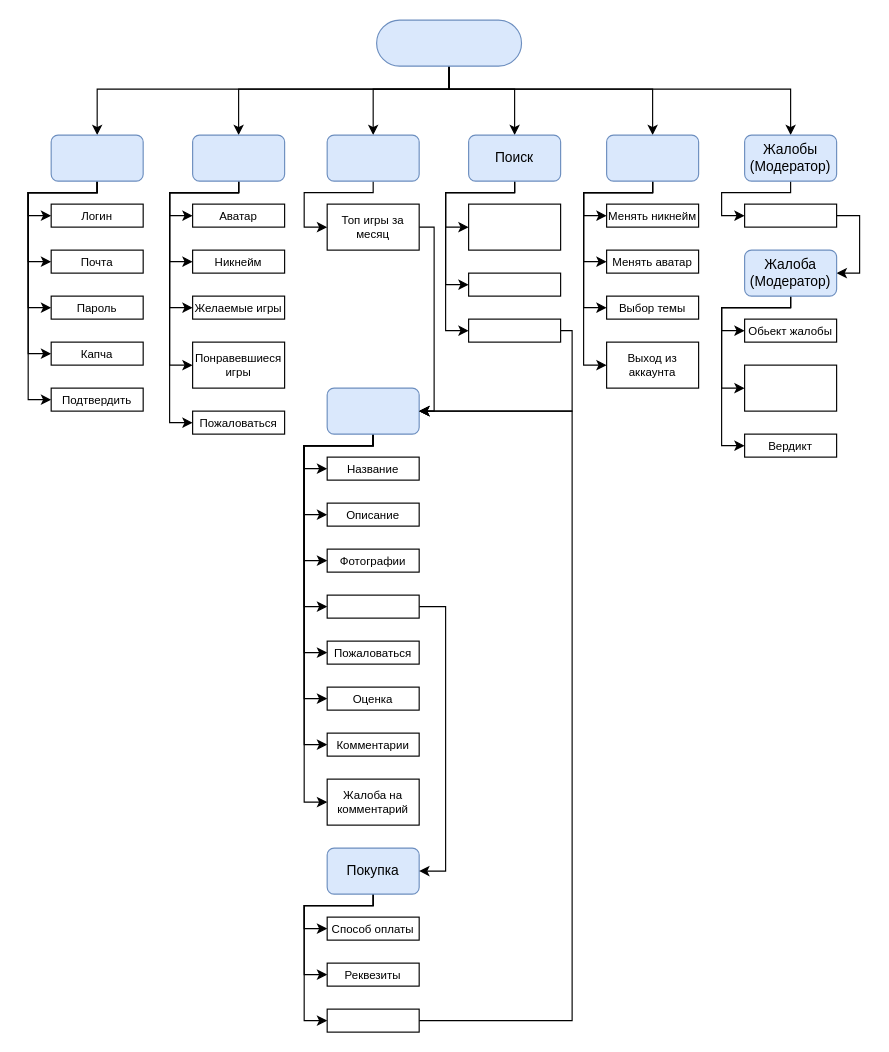
The diagram is 889 pixels wide and 1052 high, and some of its shapes have lost their labels. Each missing label, with the centre of its shape:
"Вход/Регестрация" goes at (x=96, y=157).
"Главная" goes at (x=448, y=42).
"игра из поиска" goes at (x=514, y=330).
"Настройки сайта" goes at (x=652, y=157).
"Описание жалобы" goes at (x=790, y=387).
"Оплатить" goes at (x=372, y=1020).
"Поиск по названию" goes at (x=514, y=226).
"Поле для тегов" goes at (x=514, y=284).
"Популярные игры" goes at (x=372, y=157).
"Профиль" goes at (x=238, y=157).
"Профиль игры" goes at (x=372, y=410).
"Скачать/Купить" goes at (x=372, y=606).
"Список жалоб" goes at (x=790, y=215).
